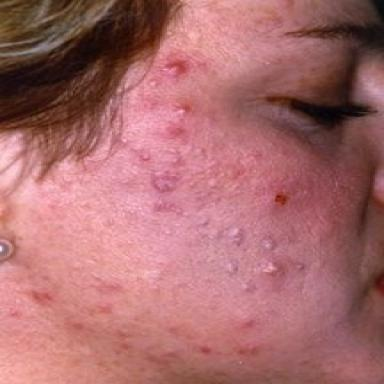acne: (162, 59, 188, 78), (154, 198, 183, 215), (153, 178, 174, 192), (228, 227, 243, 245), (166, 125, 184, 139), (274, 191, 288, 205), (262, 262, 278, 274), (236, 347, 259, 355), (177, 103, 192, 114), (240, 319, 256, 329), (261, 239, 275, 250), (100, 284, 121, 291), (226, 263, 238, 273), (197, 217, 209, 227), (199, 345, 211, 354), (100, 305, 112, 313), (119, 326, 129, 335), (168, 349, 179, 357), (140, 154, 151, 161), (196, 148, 205, 156), (208, 179, 217, 187), (172, 157, 183, 163), (210, 228, 218, 236), (242, 283, 248, 291), (296, 263, 304, 269), (150, 80, 157, 86), (169, 149, 178, 153)
